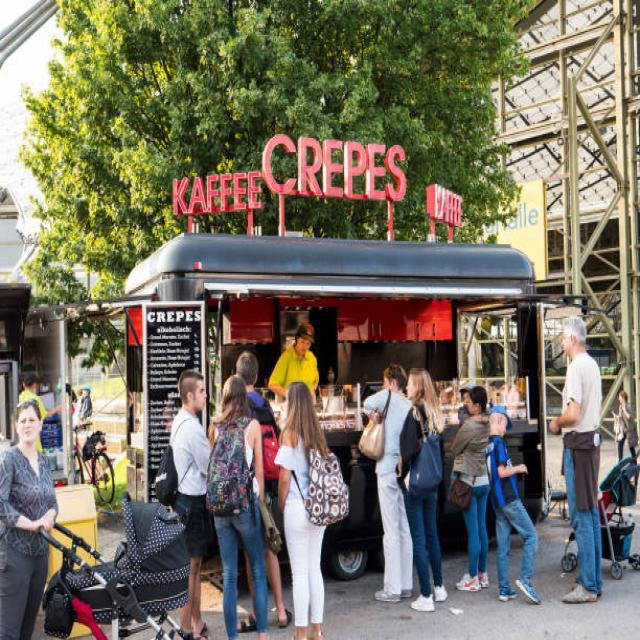Emperan: (107, 132, 574, 590)
